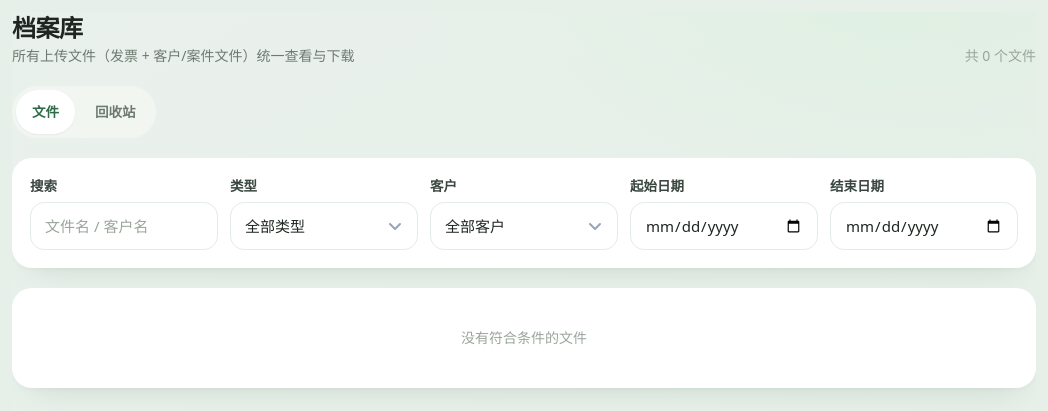
ArchivePage · 日期筛选禁未来 › 结束日期同样带 max=今天；手输未来日期被钳回今天
This screenshot has width=1048, height=411.
Type "2999-01-01" into the date field labelled "结束日期". click: (924, 226)
box: [830, 202, 1018, 250]
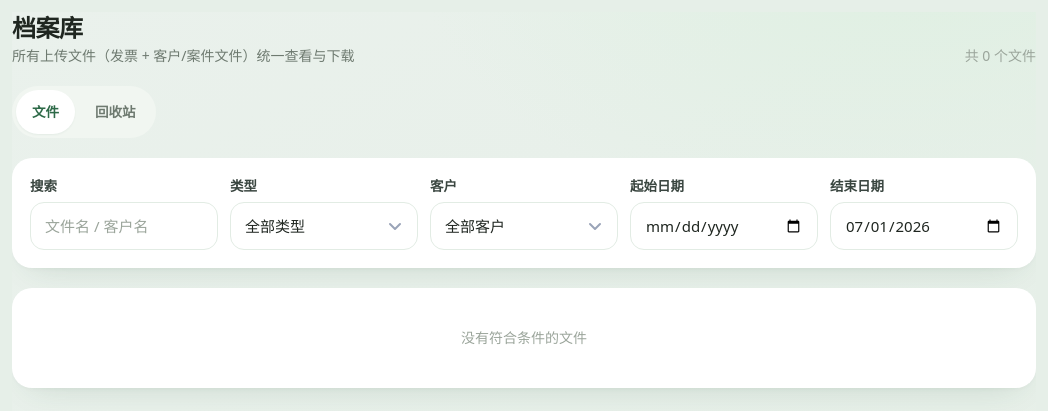
Result: the date field labelled "结束日期" holds "2026-07-01" at [830, 202, 1018, 250]
